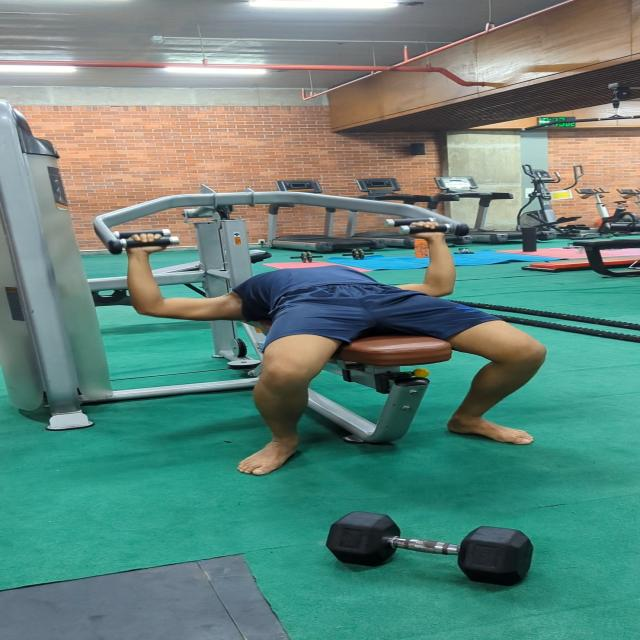Normal_BrenchPress: (99, 190, 630, 481)
